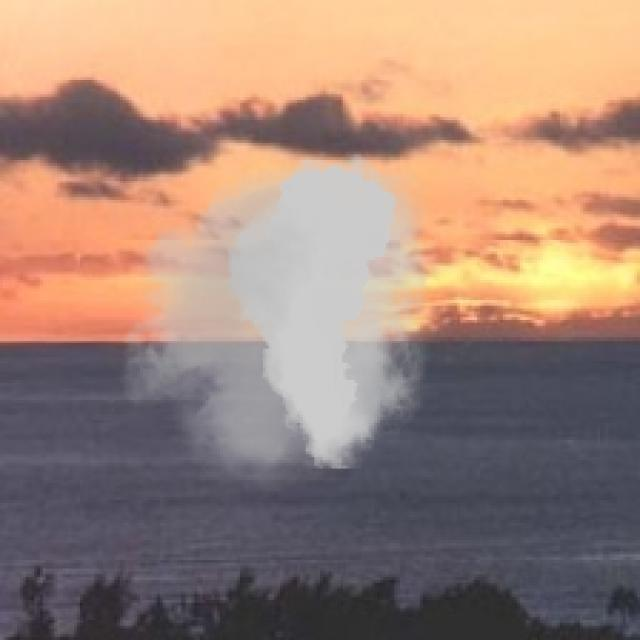Smoke: (102, 142, 454, 492)
